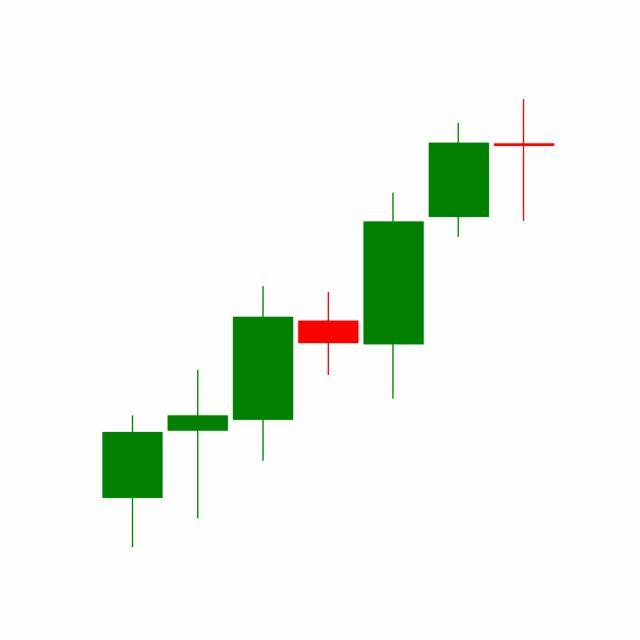Three Outside Up-Down: (295, 121, 492, 404)
